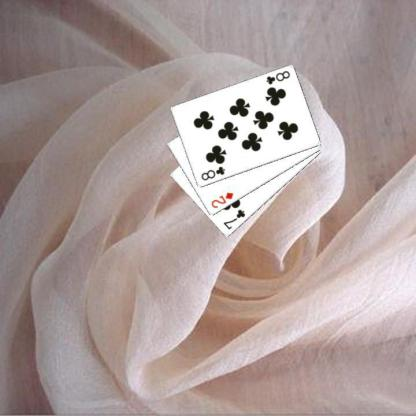2D: (209, 190, 235, 210)
7C: (220, 207, 246, 231)
8C: (198, 164, 226, 182), (264, 68, 291, 86)
